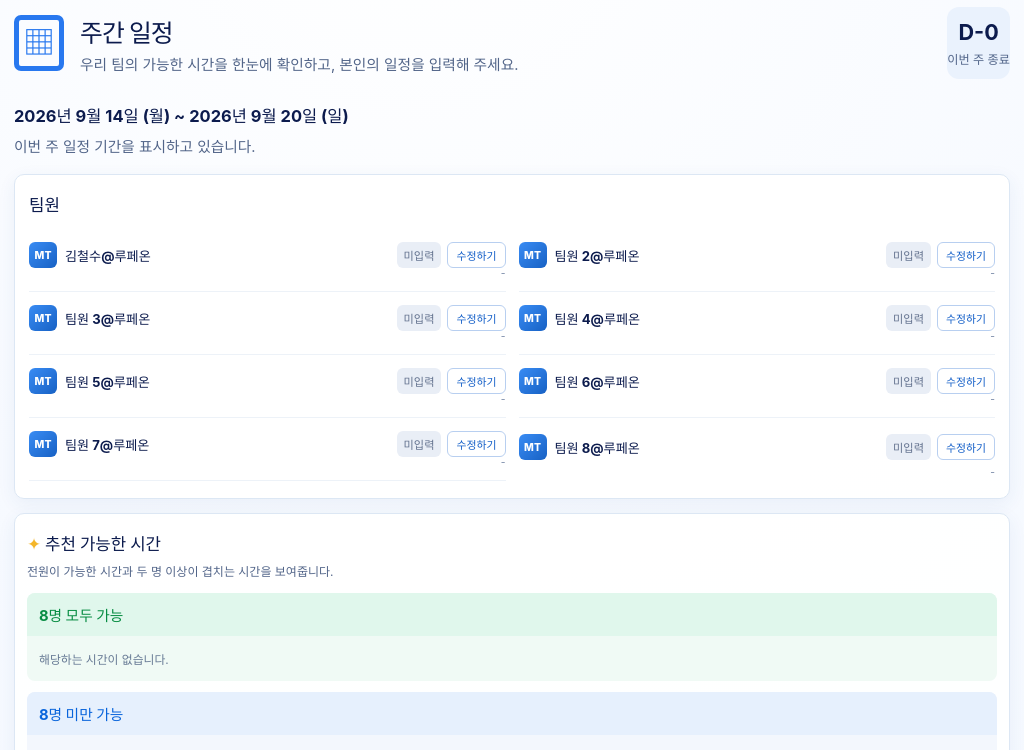
SchedulePage › 주차가 바뀐 저장 요청은 편집기를 닫고 최신 일정 확인을 안내한다
What coordinates should you click on to do the following:
click the button "수정하기" in the row of "김철수"
I would click on:
 (476, 255)
Its box is [448, 242, 506, 268].
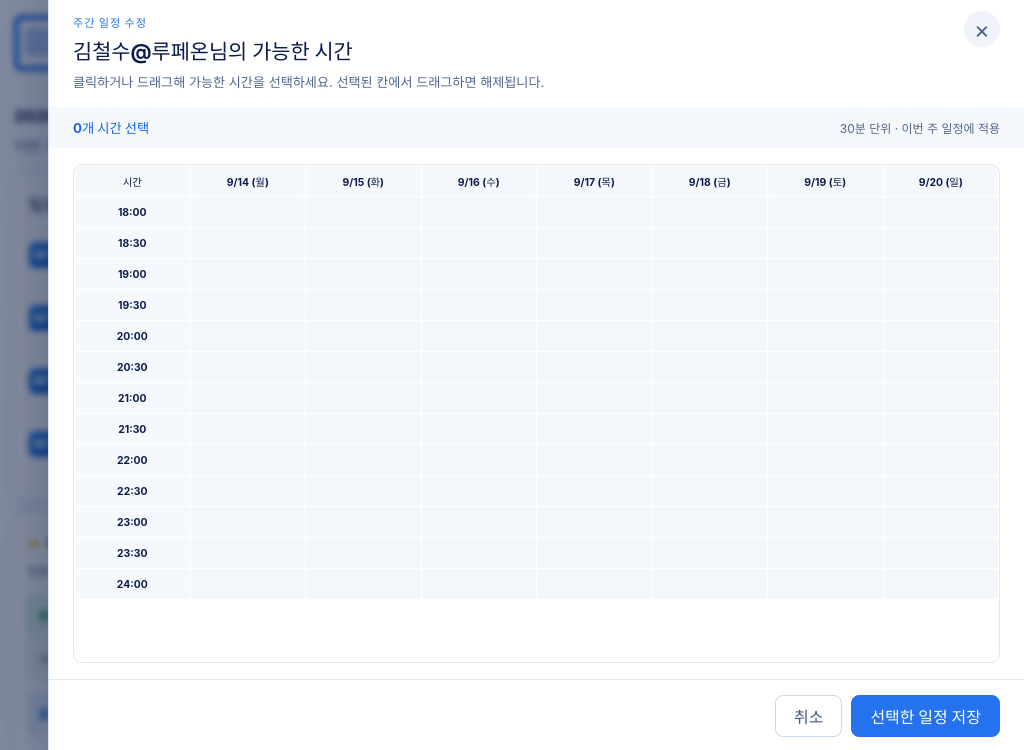
What coordinates should you click on to do the following:
click the button "선택한 일정 저장"
I would click on:
 (926, 716)
Its box is [851, 695, 1000, 737].
(page scrolled)
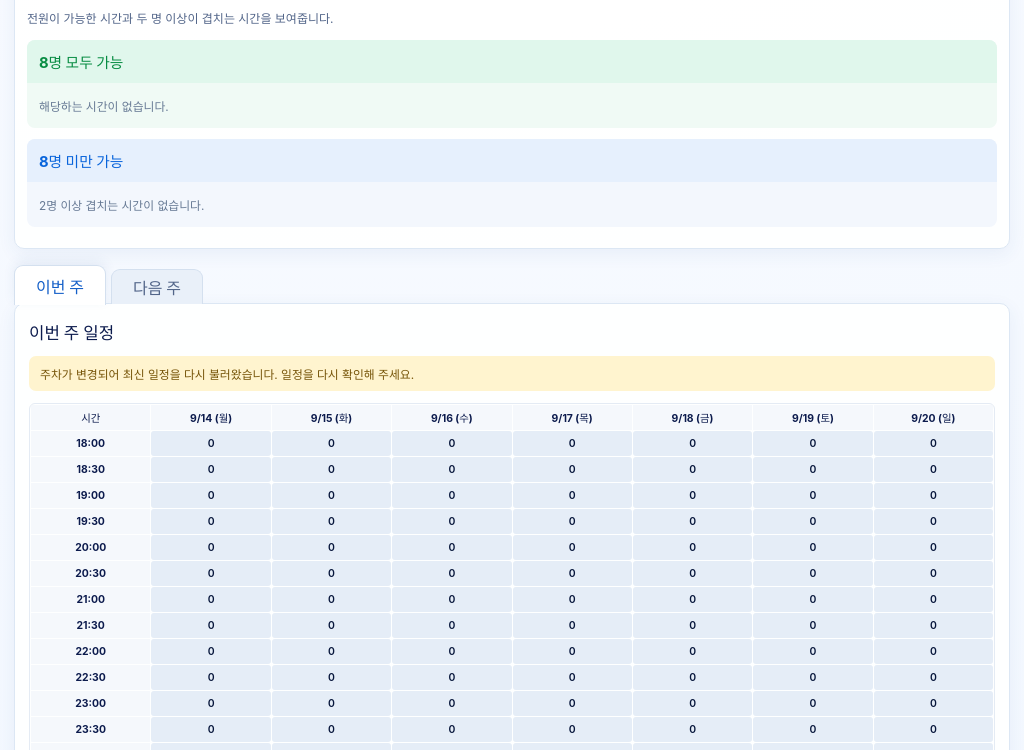
Result: the text "주차가 변경되어 최신 일정을 다시 불러왔습니다. 일정을 다시 확인해 주세요." is shown at [29, 356, 995, 391]
